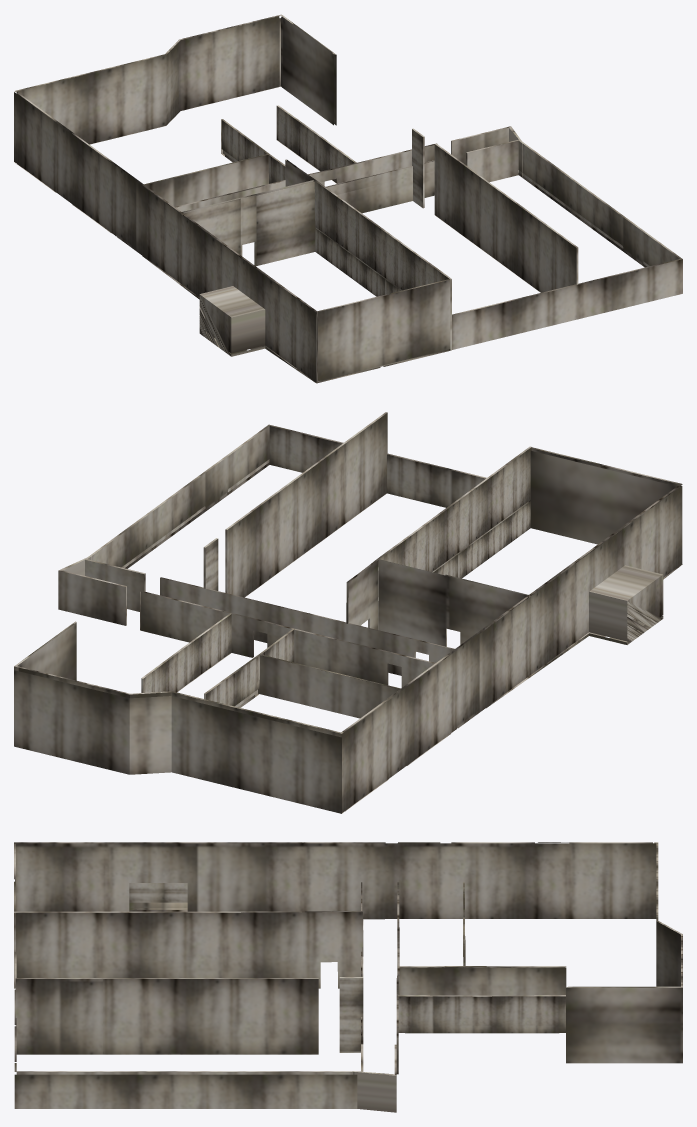
The model's file is Wiezienie.fbx.
The picture shows the model from 3 angles, top to bottom: view 1: azimuth 30°, elevation 25°; view 2: azimuth 150°, elevation 25°; view 3: azimuth 270°, elevation 25°; orthographic projection. The views are drawn at different scales.
Visible parts, largest first — view 1: Cube.006; view 2: Cube.006; view 3: Cube.006.
Boxes of the visible parts, x1,y1,x2,y2 form: Cube.006: (14,14,682,383); Cube.006: (14,412,682,813); Cube.006: (14,842,682,1112).
Bounding box in the file's own units: 3645 × 632 × 4858.
